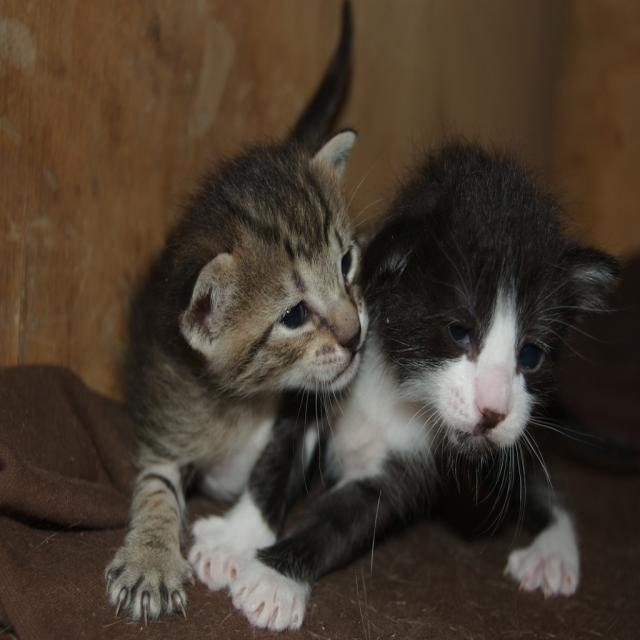Cat: (102, 128, 622, 632)
